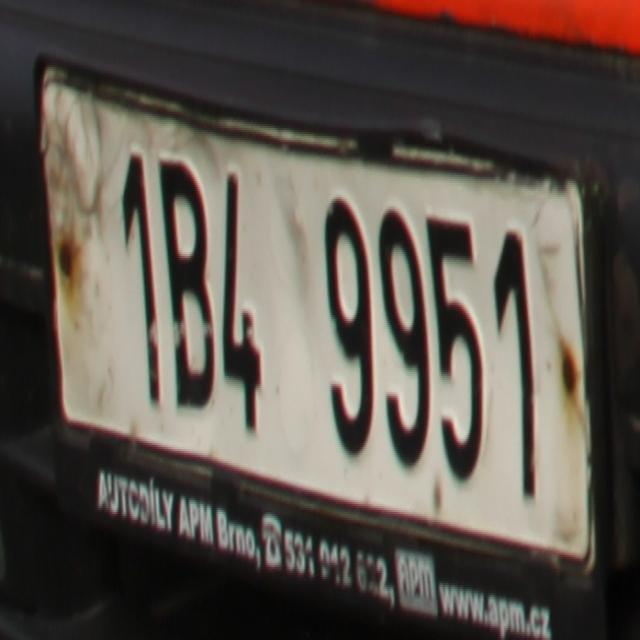1: (491, 211, 541, 514), (118, 140, 160, 410)
4: (220, 156, 262, 435)
5: (427, 199, 485, 486)
9: (320, 186, 374, 459), (376, 198, 428, 472)
B: (160, 152, 217, 412)
